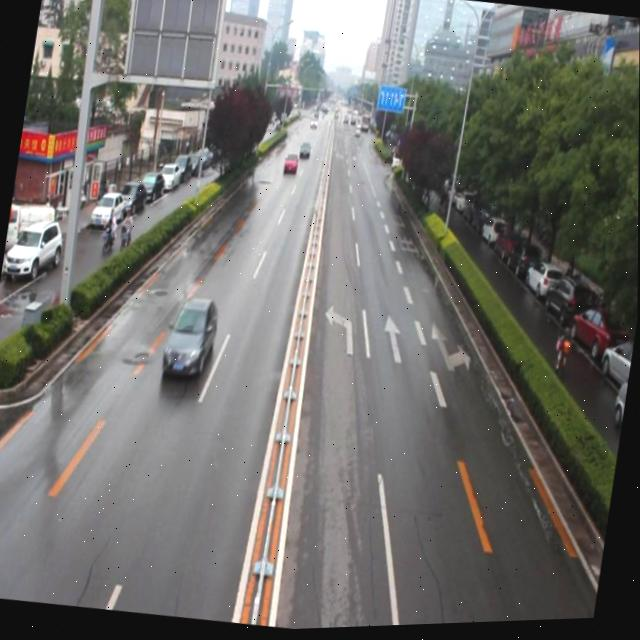car: (160, 296, 221, 383), (282, 153, 300, 175), (299, 143, 312, 161)
